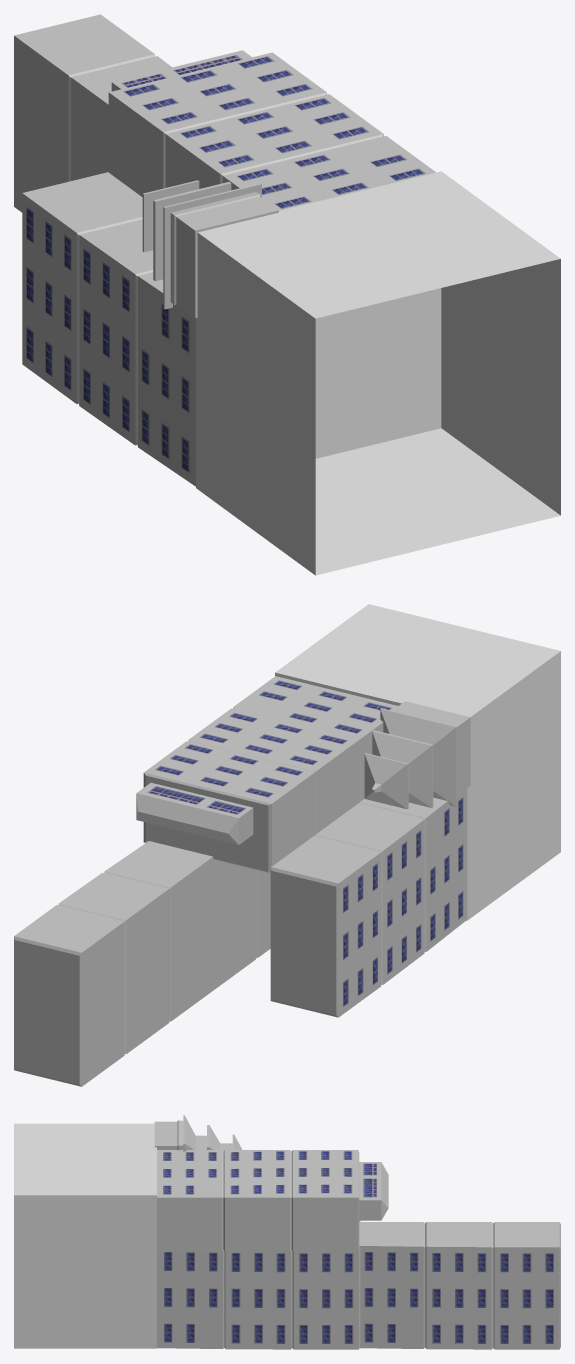
File: block_tall_01.FBX
3 renders of one model, top to bottom at view 1: azimuth 30°, elevation 25°; view 2: azimuth 150°, elevation 25°; view 3: azimuth 270°, elevation 25°, orthographic. The views are drawn at different scales.
Visible parts, largest first — view 1: Plane002, building_apartment_9s (×2), building_apartment_9s002, 10x10_3s013, addon_2; view 2: building_apartment_9s (×2), Plane002, building_apartment_9s002, 10x10_3s013, building_apartment_9s001, addon_2; view 3: building_apartment_9s (×2), Plane002, building_apartment_9s001, 10x10_3s013, addon_2.
Part boxes in pixels (box(x1,y1,x2,y2)): Plane002: box(196, 171, 560, 575); building_apartment_9s (×2): box(14, 14, 435, 212); building_apartment_9s002: box(22, 172, 195, 486); 10x10_3s013: box(142, 180, 278, 318); addon_2: box(111, 50, 251, 91); building_apartment_9s (×2): box(14, 676, 397, 1086); Plane002: box(275, 604, 560, 920); building_apartment_9s002: box(270, 788, 467, 1017); 10x10_3s013: box(364, 701, 470, 809); building_apartment_9s001: box(145, 841, 270, 990); addon_2: box(136, 782, 253, 844); building_apartment_9s (×2): box(157, 1150, 560, 1349); Plane002: box(14, 1123, 156, 1348); building_apartment_9s001: box(157, 1247, 360, 1349); 10x10_3s013: box(154, 1115, 242, 1151); addon_2: box(359, 1162, 388, 1220).
Bounding box in the file's own units: 31.12 × 31.47 × 96.86.
